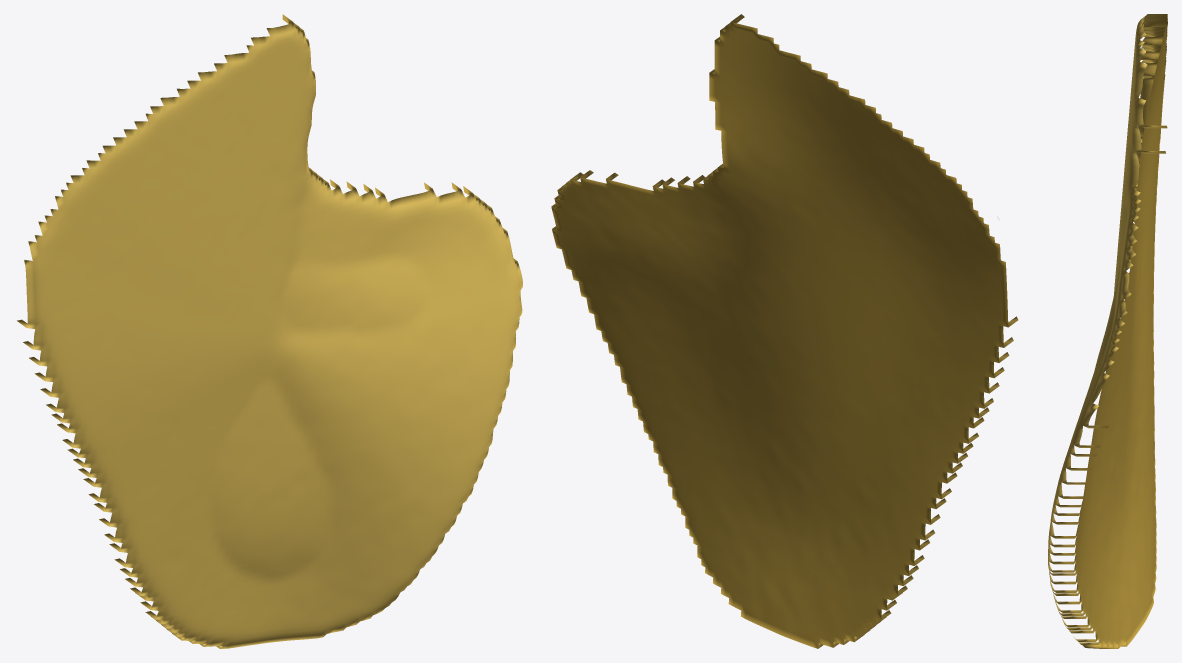
File: PAIR-DANCERS-PAD_LEFT_addon.glb
3 renders of one model, left to right at view 1: azimuth 30°, elevation 25°; view 2: azimuth 150°, elevation 25°; view 3: azimuth 270°, elevation 25°, orthographic.
Visible parts, largest first — view 1: geometry_0; view 2: geometry_0; view 3: geometry_0.
Boxes of the visible parts, x1,y1,x2,y2 form: geometry_0: (17, 14, 522, 648); geometry_0: (551, 14, 1018, 648); geometry_0: (1048, 14, 1167, 648).
Size of the model in its own units: 89 by 109 by 19.52.
